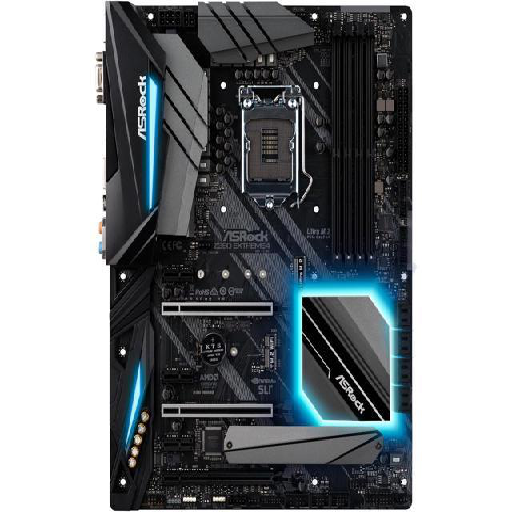CPU: (240, 84, 301, 210)
GPU: (160, 396, 296, 426), (161, 297, 295, 324)
MOTHERBOARD: (104, 3, 413, 510)
RAM: (329, 19, 379, 272)
SSD: (261, 332, 279, 372), (290, 254, 308, 292)
